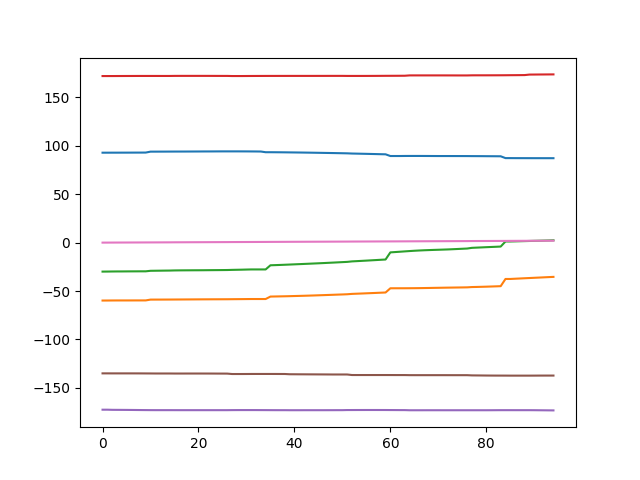Too_Slow_Down: (2, 1, 640, 480)
